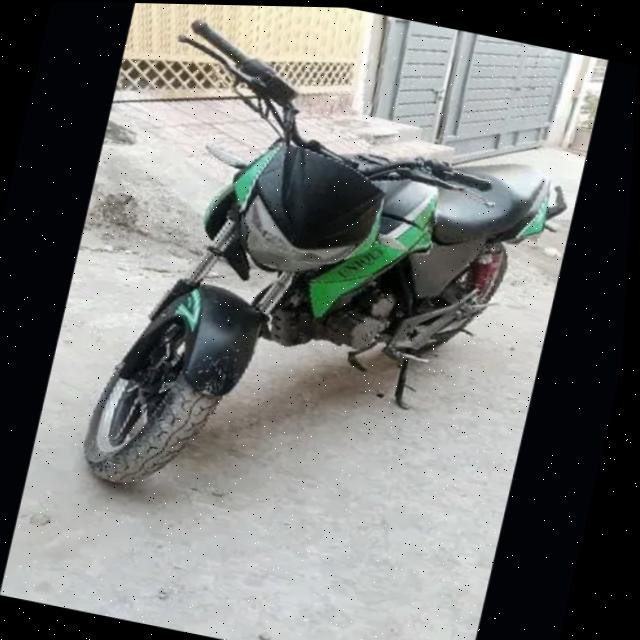Bike: (82, 24, 587, 572)
